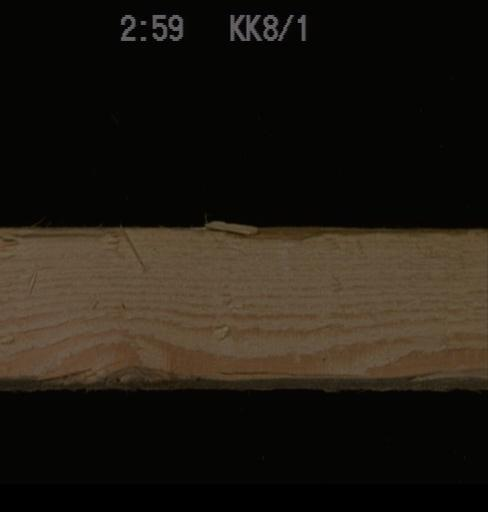split: (182, 224, 469, 249), (0, 225, 120, 247), (212, 366, 358, 377)
wave: (33, 354, 203, 386), (393, 363, 486, 387)
